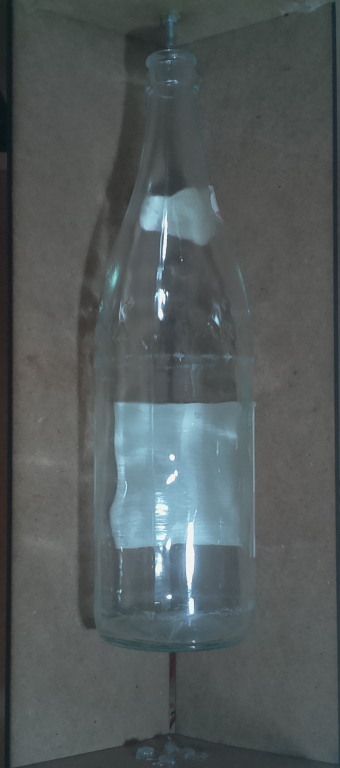Glass: (81, 43, 267, 658)
